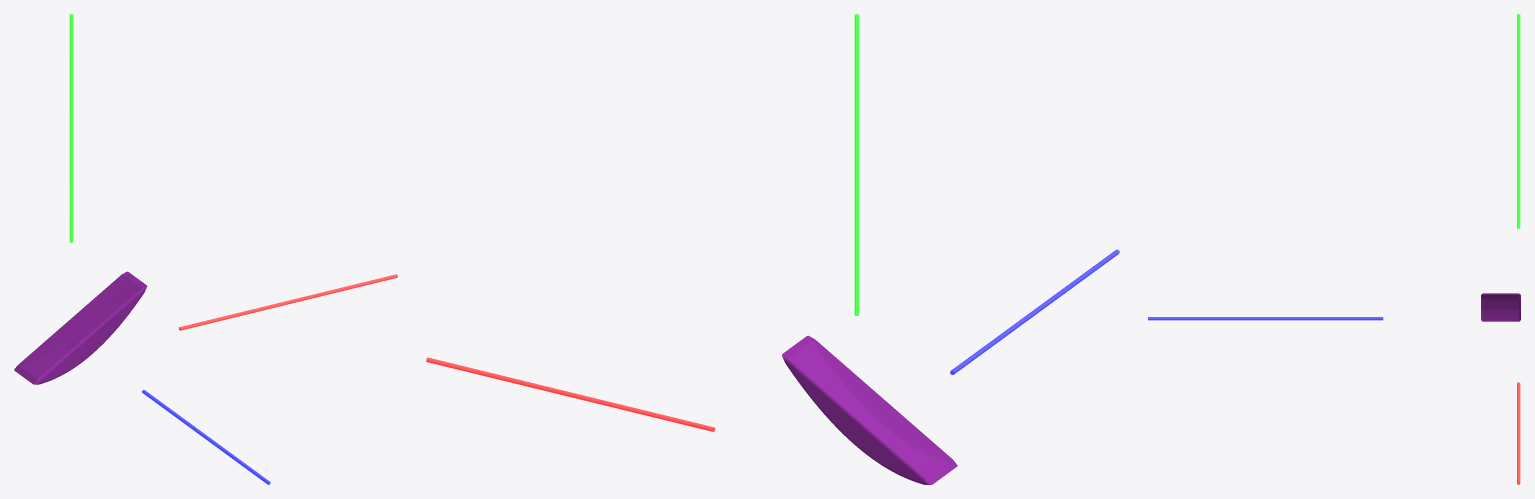
File: area-between-curves.glb
3 views of the same model, side by side, from view 1: azimuth 30°, elevation 25°; view 2: azimuth 150°, elevation 25°; view 3: azimuth 270°, elevation 25° (orthographic). The views are drawn at different scales.
Bounding box in the file's own units: 1.76 × 1.51 × 1.59.
